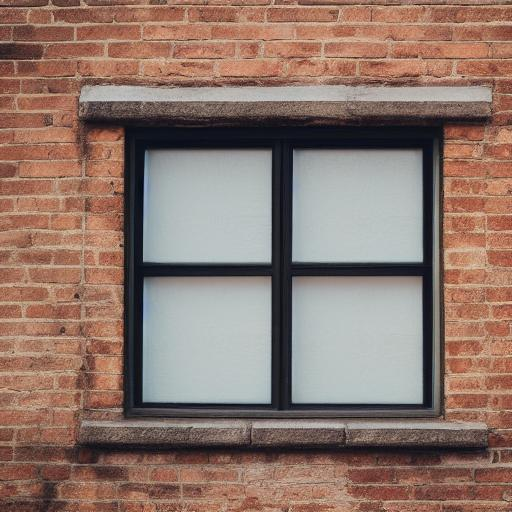Window: (76, 80, 495, 454)
